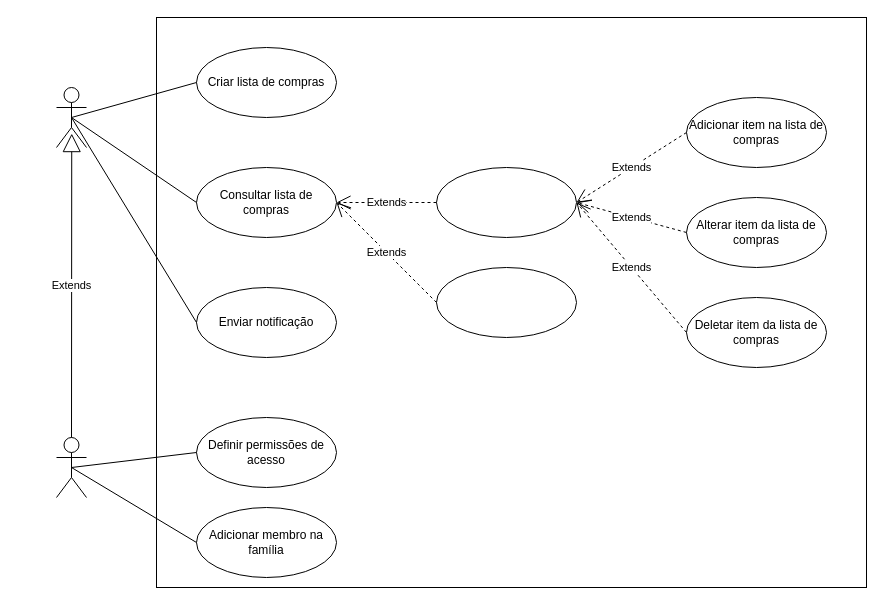
This 885x605 diagram has some shape labels left out. Each missing label, with the centre of its shape:
"Alterar lista de compras" belongs at point (506, 202).
"Deletar lista de compras" belongs at point (506, 302).
"Membro família" belongs at point (71, 117).
"Responsável família" belongs at point (71, 467).
